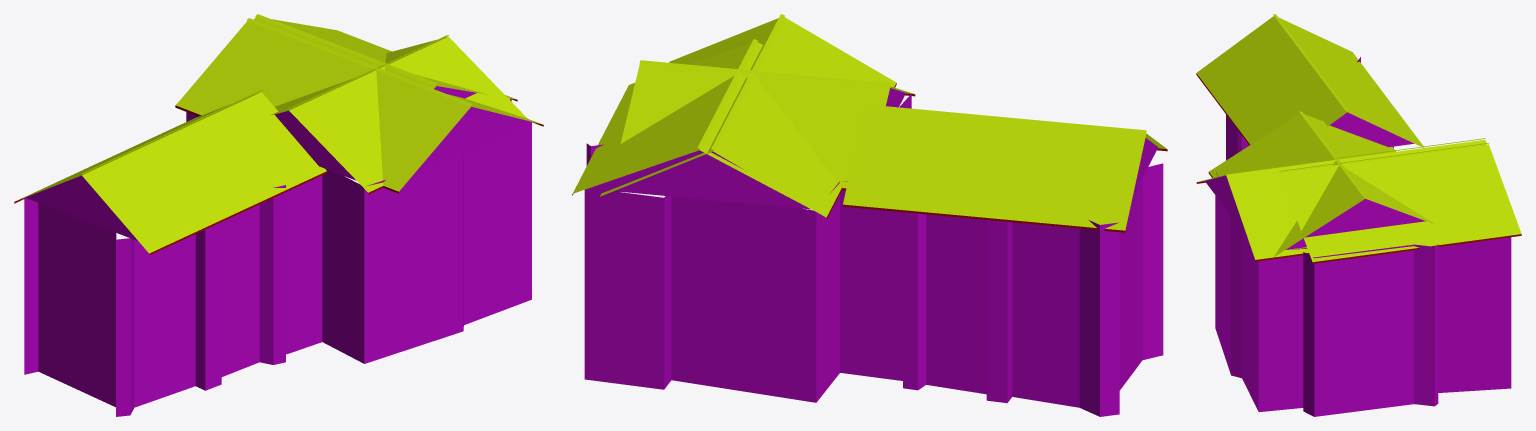
File: sjs_67.glb
The picture shows the model from 3 angles, left to right: view 1: azimuth 30°, elevation 25°; view 2: azimuth 150°, elevation 25°; view 3: azimuth 270°, elevation 25°; orthographic projection. The views are drawn at different scales.
Parts seen in each view (by area): view 1: sjs_67; view 2: sjs_67; view 3: sjs_67.
Part boxes in pixels (x1=…): sjs_67: x1=14, y1=14, x2=543, y2=416; sjs_67: x1=572, y1=14, x2=1167, y2=416; sjs_67: x1=1196, y1=14, x2=1521, y2=416.
Size of the model in its own units: 31.32 by 14.16 by 20.4.
